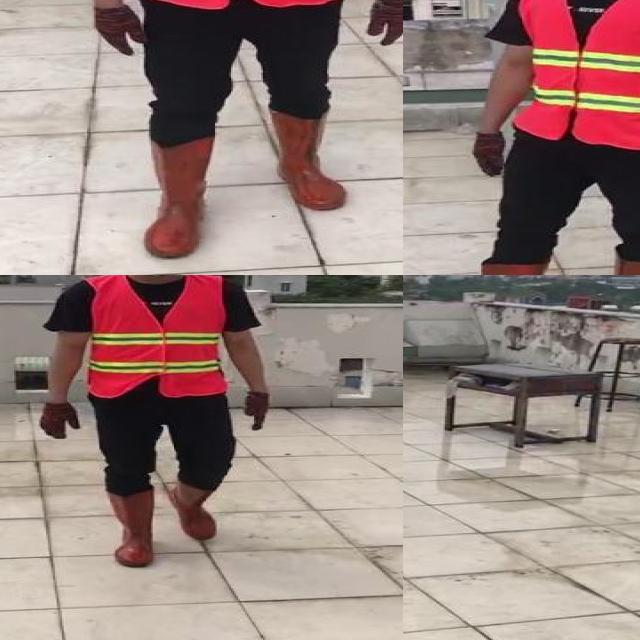boots: (142, 137, 219, 258), (264, 107, 346, 211), (105, 490, 156, 566), (169, 479, 222, 540)
hand_glove: (92, 8, 146, 58), (467, 130, 509, 179), (37, 402, 80, 440), (369, 0, 403, 45), (244, 392, 268, 432)
person: (63, 0, 403, 275), (36, 275, 276, 569), (425, 0, 640, 275)
vest: (518, 0, 640, 149), (85, 275, 229, 400)
